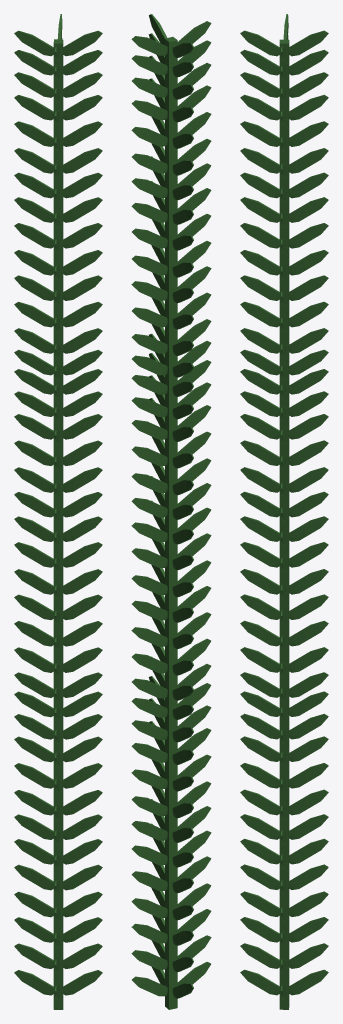
The model's file is SM_KelpPlaceHolder1_L.fbx.
The picture shows the model from 3 angles, left to right: view 1: azimuth 90°, elevation 25°; view 2: azimuth 210°, elevation 25°; view 3: azimuth 270°, elevation 25°; orthographic projection.
Visible parts, largest first — view 1: kelp_L; view 2: kelp_L; view 3: kelp_L.
Boxes of the visible parts, x1,y1,x2,y2 form: kelp_L: [14, 14, 102, 1009]; kelp_L: [131, 14, 211, 1009]; kelp_L: [240, 14, 328, 1009].
Size of the model in its own units: 81.15 by 990 by 81.26.
